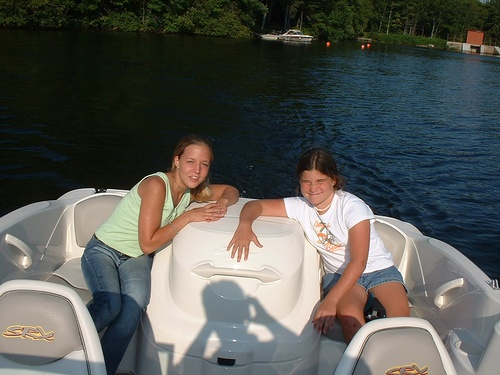head: (173, 140, 213, 191), (297, 158, 337, 209)
person: (226, 147, 408, 342), (84, 135, 223, 366)
